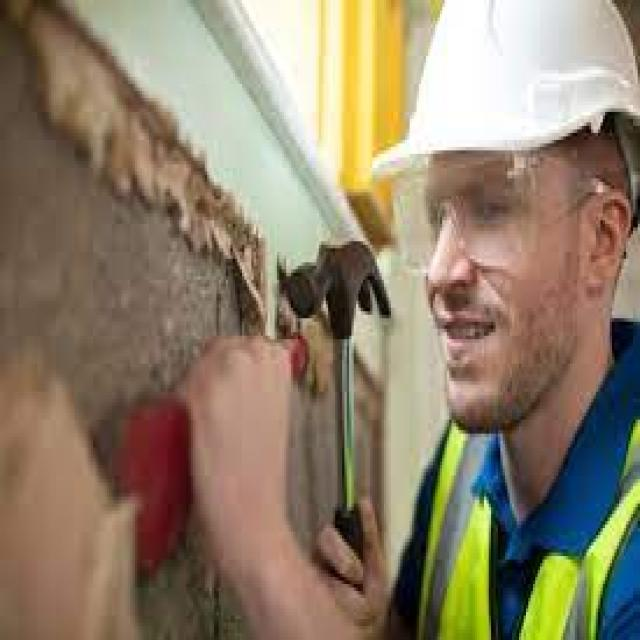glasses: (390, 136, 588, 274)
